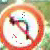Don't turn left: (0, 3, 44, 49)
